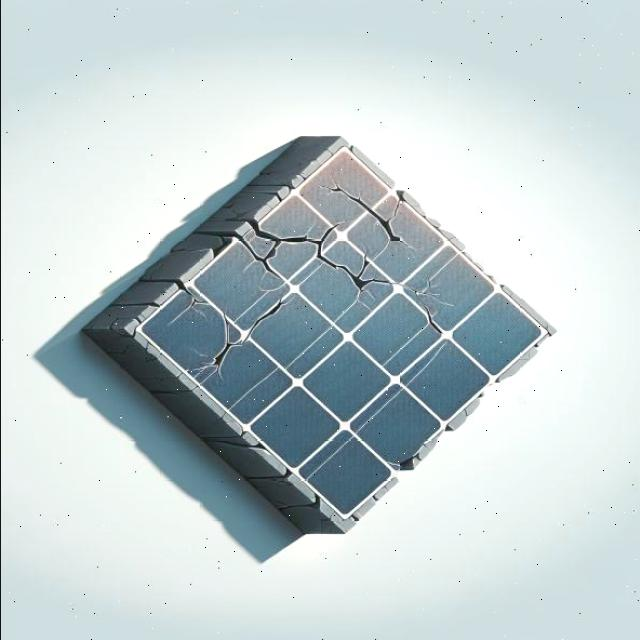Anomaly Solar Panel: (133, 122, 549, 538)
Structural Damage: (232, 184, 473, 336), (182, 273, 289, 392), (314, 148, 430, 257), (176, 283, 217, 319)
